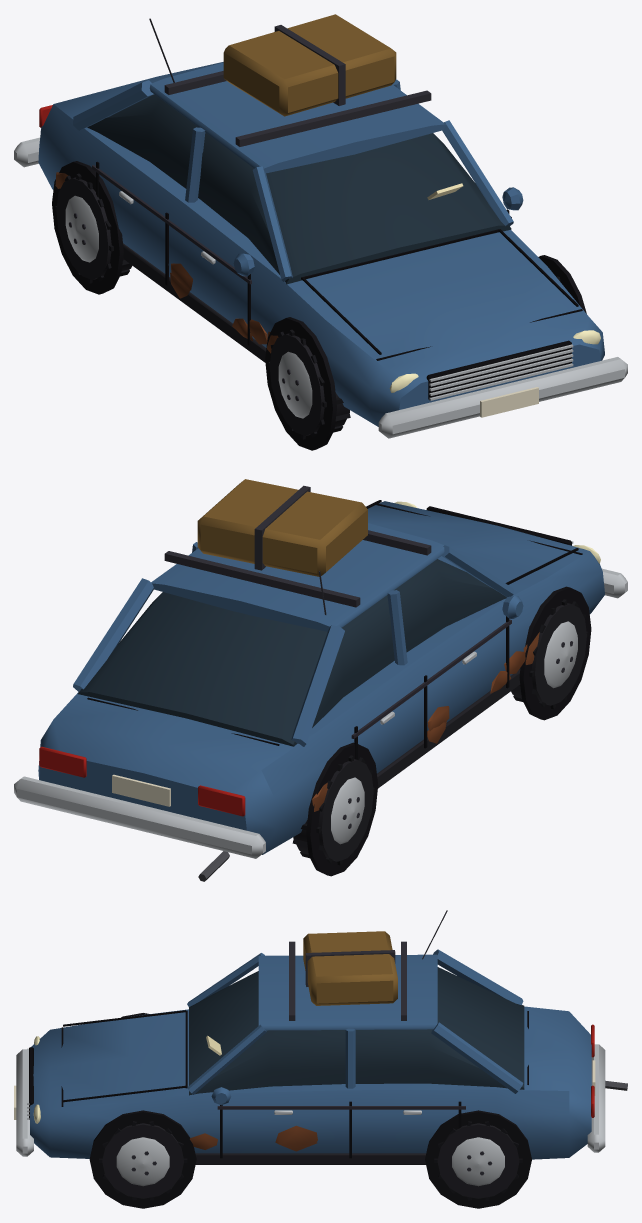
Rendered from car_parked_block.glb.
The picture shows the model from 3 angles, top to bottom: view 1: azimuth 30°, elevation 25°; view 2: azimuth 150°, elevation 25°; view 3: azimuth 270°, elevation 25°; orthographic projection. The views are drawn at different scales.
Visible parts, largest first — view 1: car_parked; view 2: car_parked; view 3: car_parked.
Part boxes in pixels (x1,y1,x2,y2): car_parked: (14, 14, 627, 450); car_parked: (14, 479, 627, 881); car_parked: (14, 910, 627, 1208).
Size of the model in its own units: 2.06 by 1.92 by 4.94.
